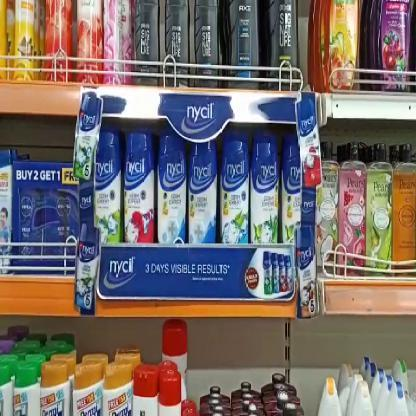Nycil Prickly Heat Powder: (122, 132, 154, 246), (155, 129, 186, 246), (221, 132, 248, 250), (251, 137, 279, 246), (92, 132, 118, 244), (190, 137, 216, 245), (282, 132, 300, 240)
